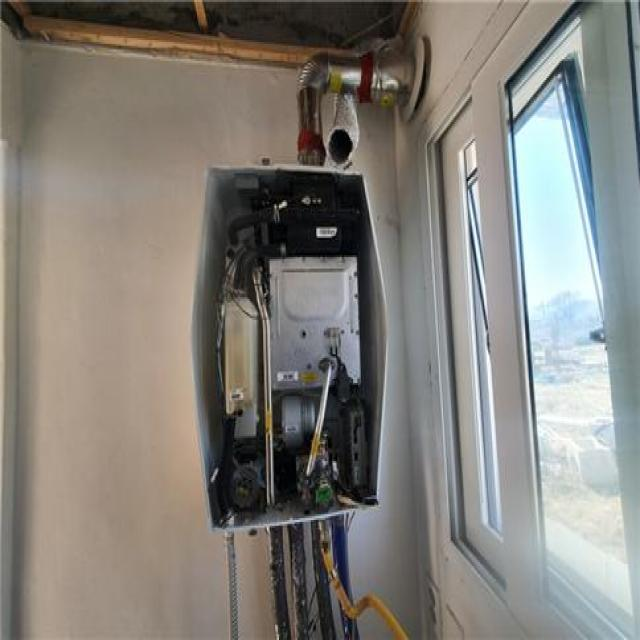Boiler: (140, 106, 410, 546)
